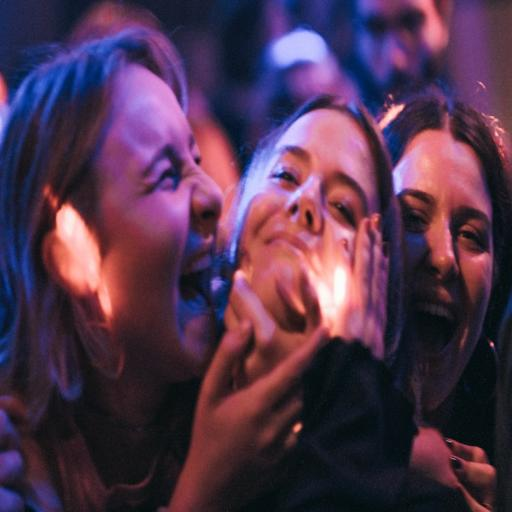face: (95, 65, 221, 379), (238, 109, 380, 332), (394, 130, 493, 410)
